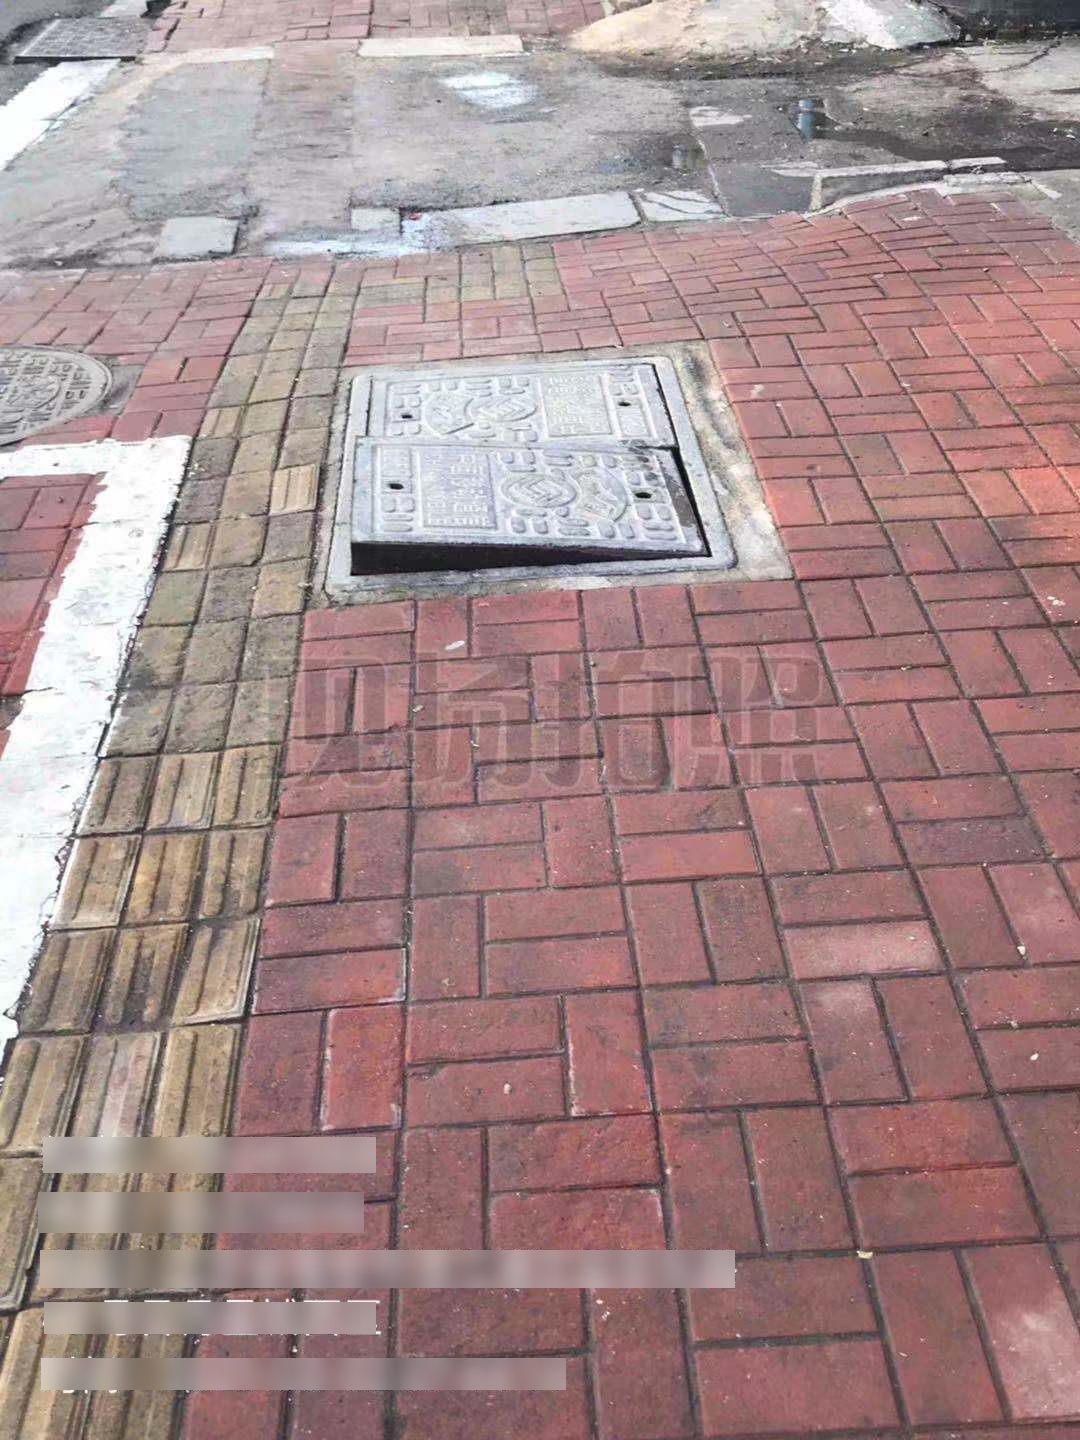uncovered: (323, 355, 736, 600)
